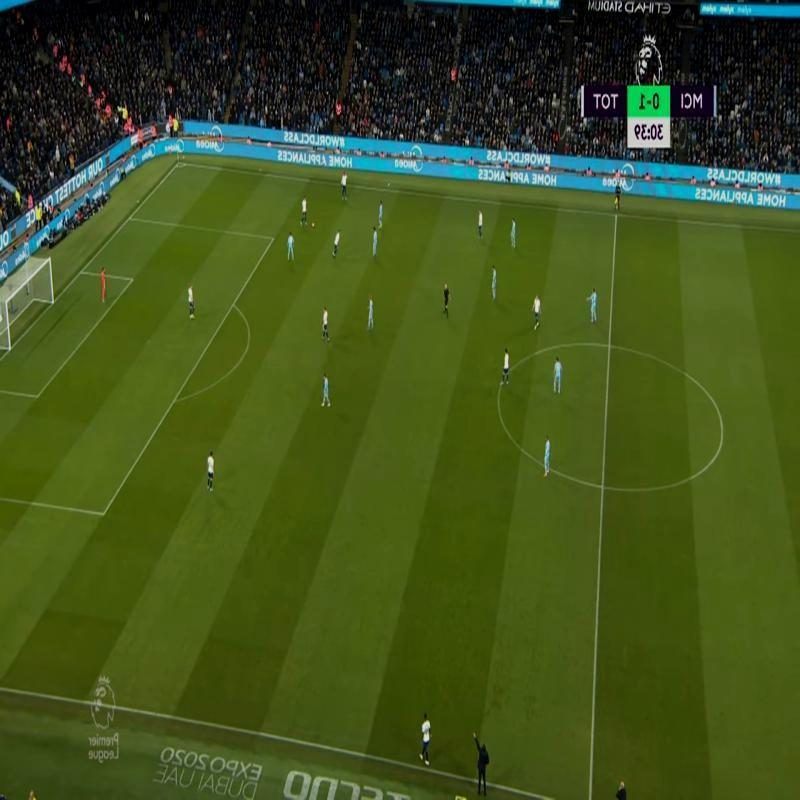1: (174, 156, 189, 172)
10: (226, 297, 241, 312)
11: (165, 394, 180, 411)
12: (30, 389, 46, 405), (96, 508, 110, 524)
13: (612, 209, 620, 222)
14: (602, 339, 618, 355)
15: (594, 478, 611, 496)
2: (123, 207, 138, 228)
3: (76, 266, 86, 278)
7: (127, 270, 138, 288)
9: (266, 232, 280, 245)
c: (490, 386, 508, 402), (714, 424, 730, 440)
